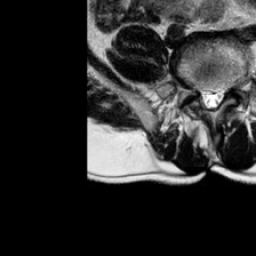CCS_normal: (208, 79, 215, 118)
LFS_stenosis: (224, 75, 234, 99)
LLS_normal: (215, 79, 224, 112)
RFS_severe_stenosis: (191, 73, 200, 101)
RLS_normal: (200, 79, 208, 112)
